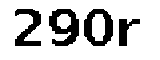0: (83, 3, 114, 48)
2: (11, 7, 44, 49)
9: (48, 7, 81, 52)
r: (117, 12, 145, 52)
